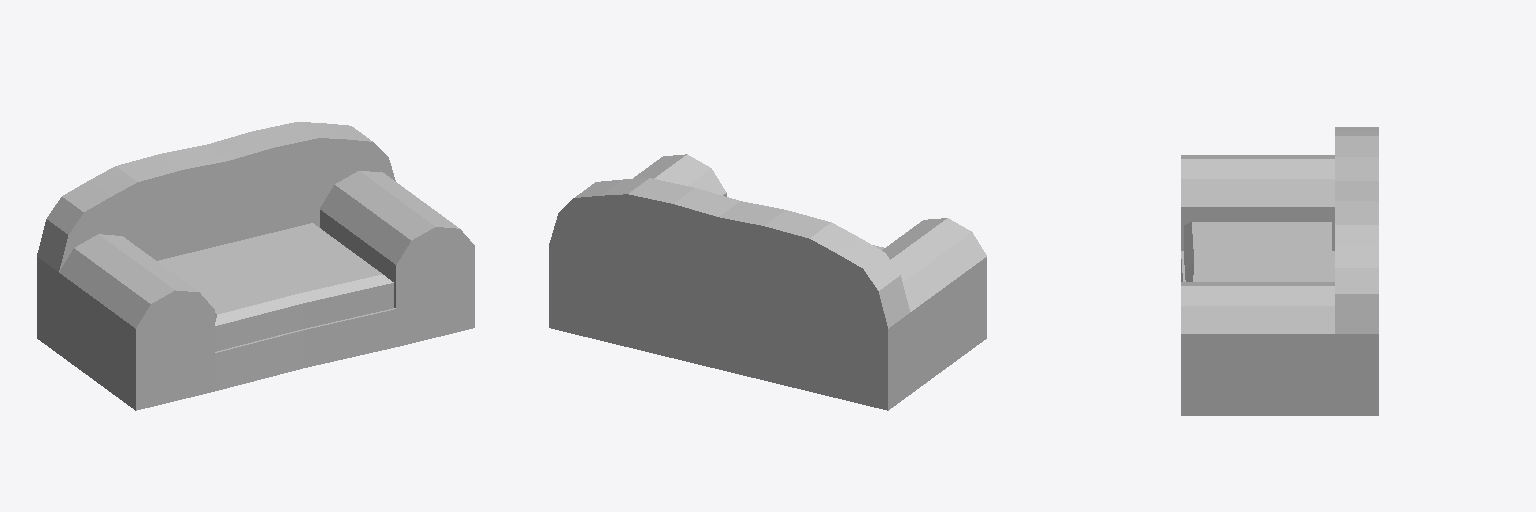
The model's file is couch.obj.
The picture shows the model from 3 angles: view 1: azimuth 30°, elevation 25°; view 2: azimuth 150°, elevation 25°; view 3: azimuth 270°, elevation 25°; orthographic projection.
Visible parts, largest first — view 1: couch; view 2: couch; view 3: couch.
Boxes of the visible parts, box(x1,y1,x2,y2) form: couch: box(37, 122, 474, 410); couch: box(549, 154, 986, 410); couch: box(1181, 127, 1378, 415).
Bounding box in the file's own units: 5.75 × 2.5 × 2.91.